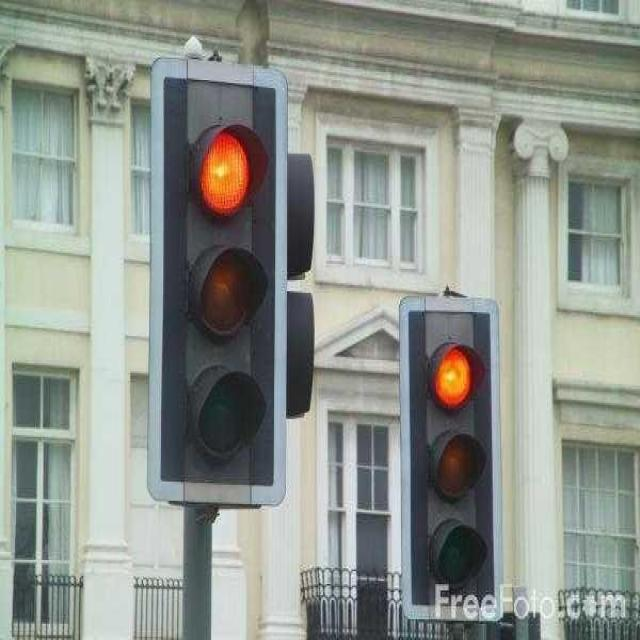Traffic Light -Red-: (150, 48, 290, 530), (402, 295, 507, 625)
